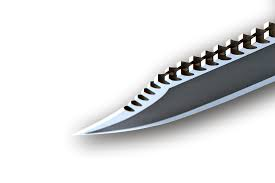knife: (67, 26, 275, 140)
